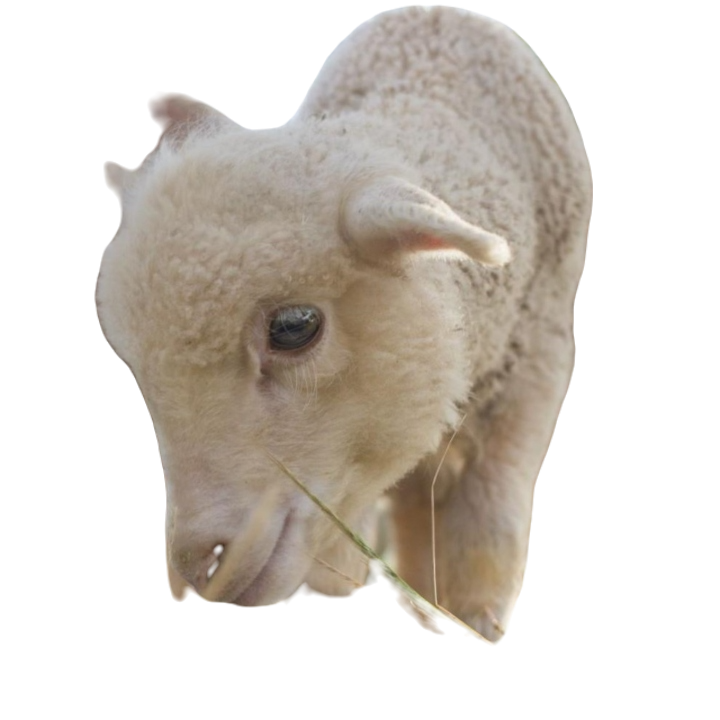Sheep: (89, 1, 597, 647)
